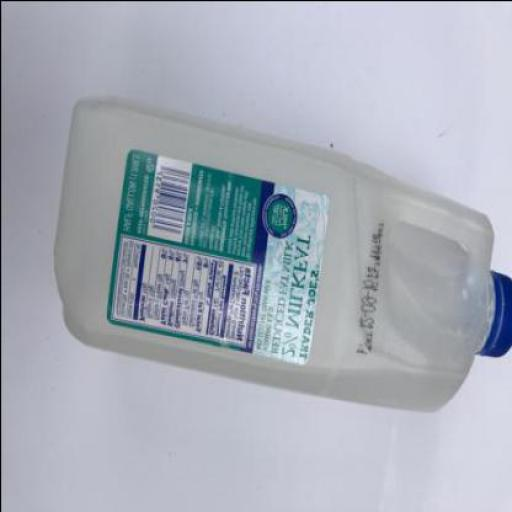plastic: (53, 96, 511, 412), (476, 266, 511, 357)
